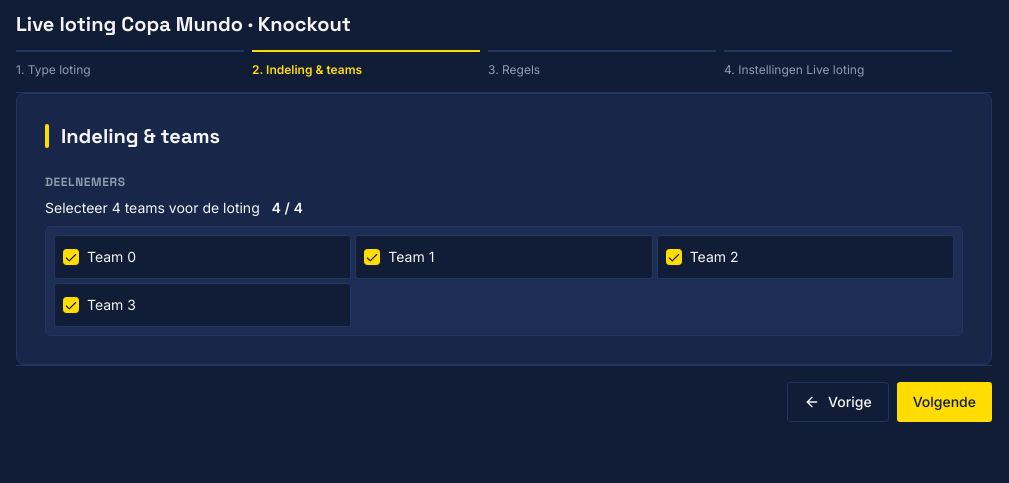
Test: Uniform draw preparation › allows unchecking exact participants and preserves choices for knockout
The width and height of the screenshot is (1009, 483).
Later steps or results of the test are not shown.
Expected: the text "4 / 4" is shown, 272,198 -> 303,218
Expected: the checkbox named "Team 1" is checked, 364,248 -> 380,264
Click the checkbox named "Team 0".
click(71, 256)  # box 63,248 -> 79,264
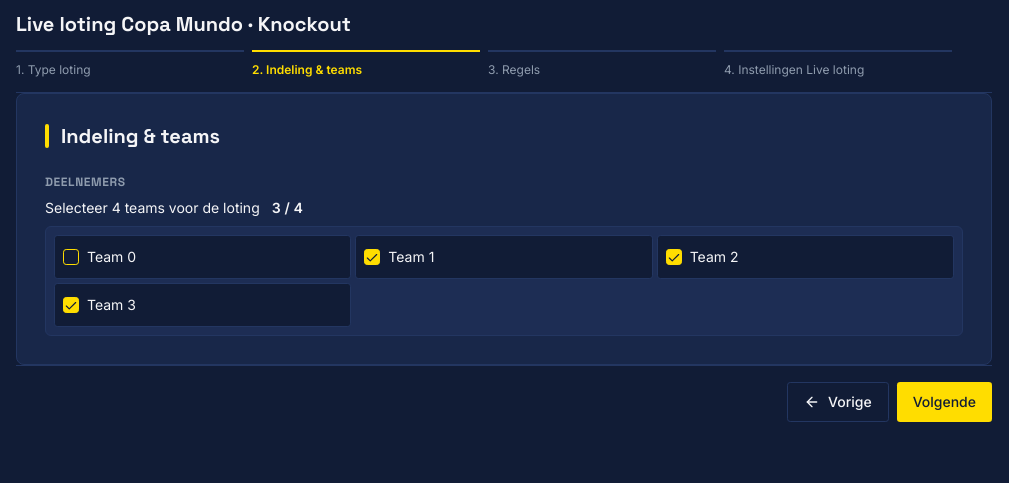
Click the button "Volgende".
click(944, 402)  # box 897,382 -> 992,422
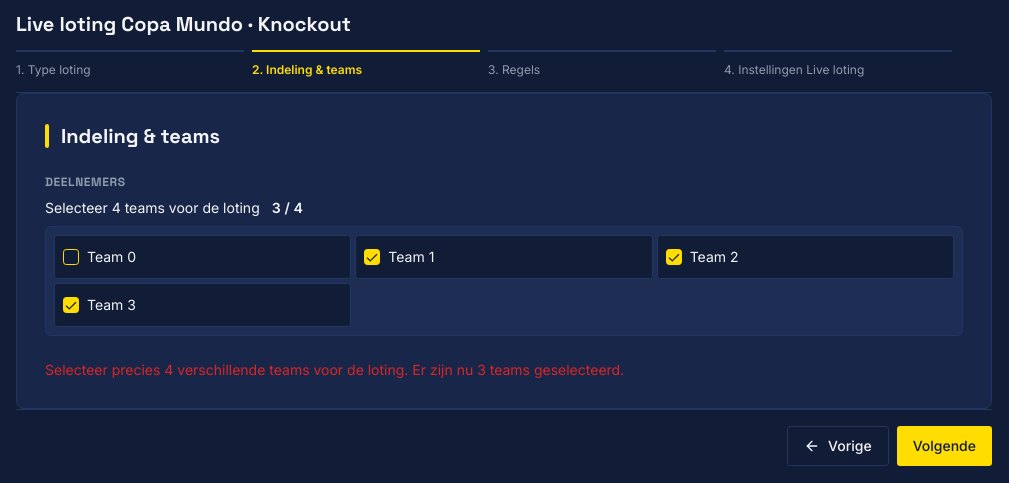
Result: the message shows "Selecteer precies 4" at 45,360 -> 624,378
Result: the message shows "3 teams geselecteerd" at 45,360 -> 624,378
